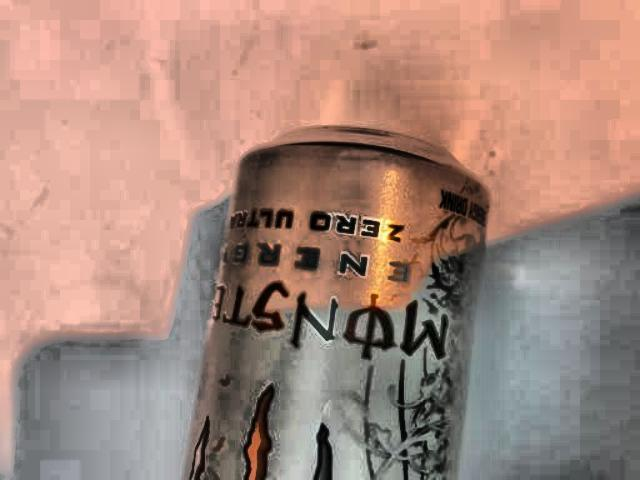Bottles: (181, 115, 494, 480)
